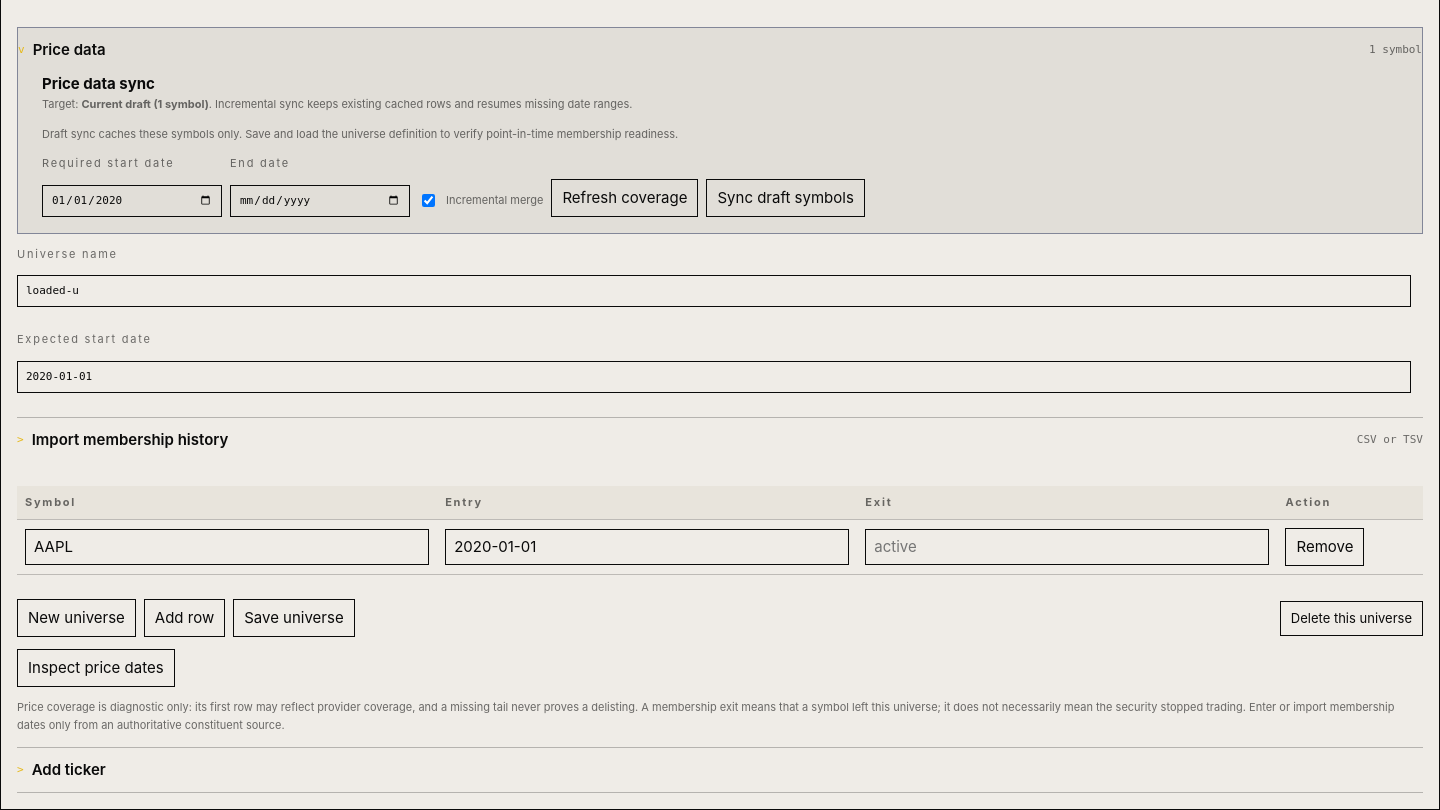
Test: UniverseEditorPage › resets the draft via New universe
(page scrolled)
Check: the field named "symbol-0" holds "AAPL", box 25,530 -> 429,566
Click the button with test id "new-universe".
click(76, 618)  # box 17,600 -> 136,638
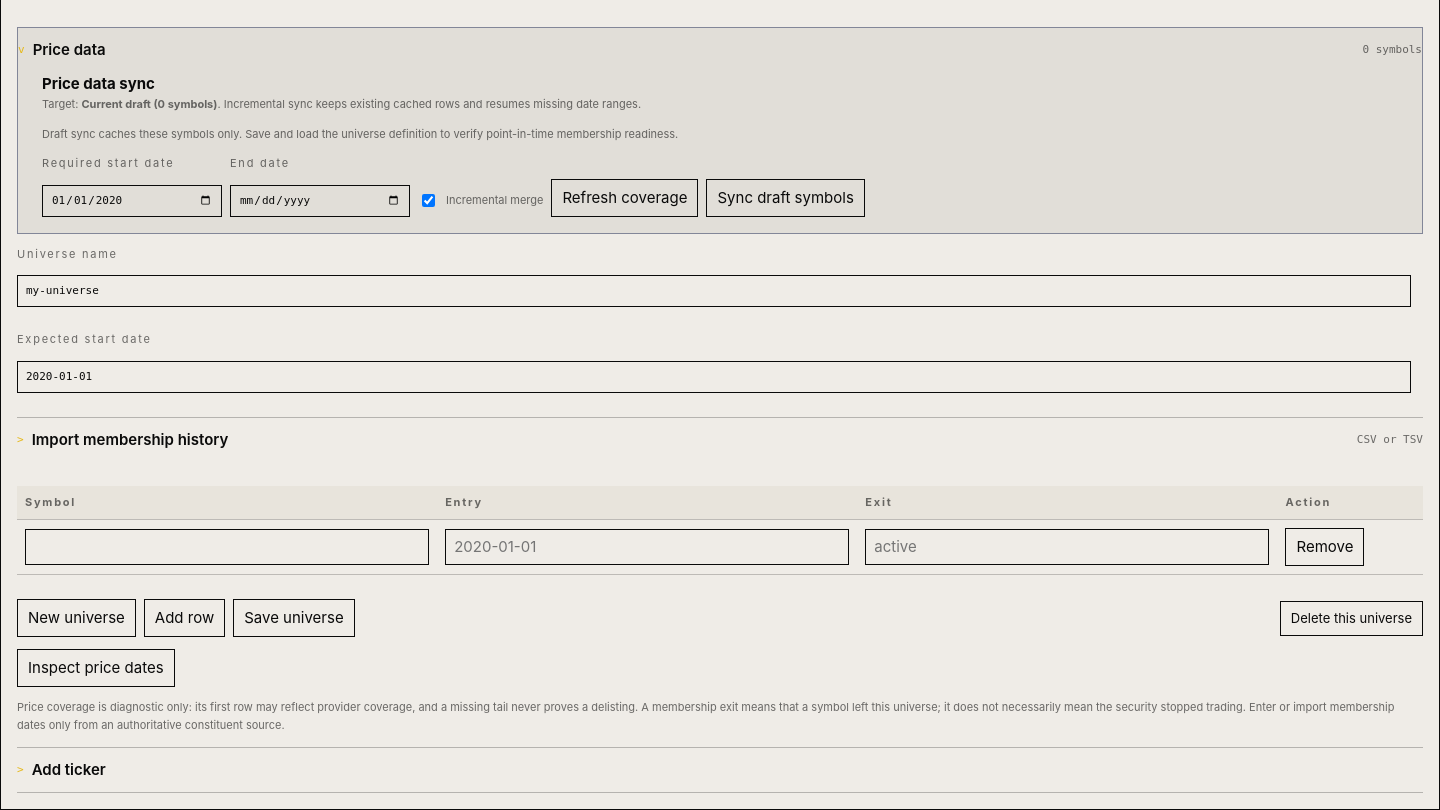
Check: the field showing "my-universe" is shown, box 17,275 -> 1411,307
Check: the field named "symbol-0" is empty, box 25,530 -> 429,566
